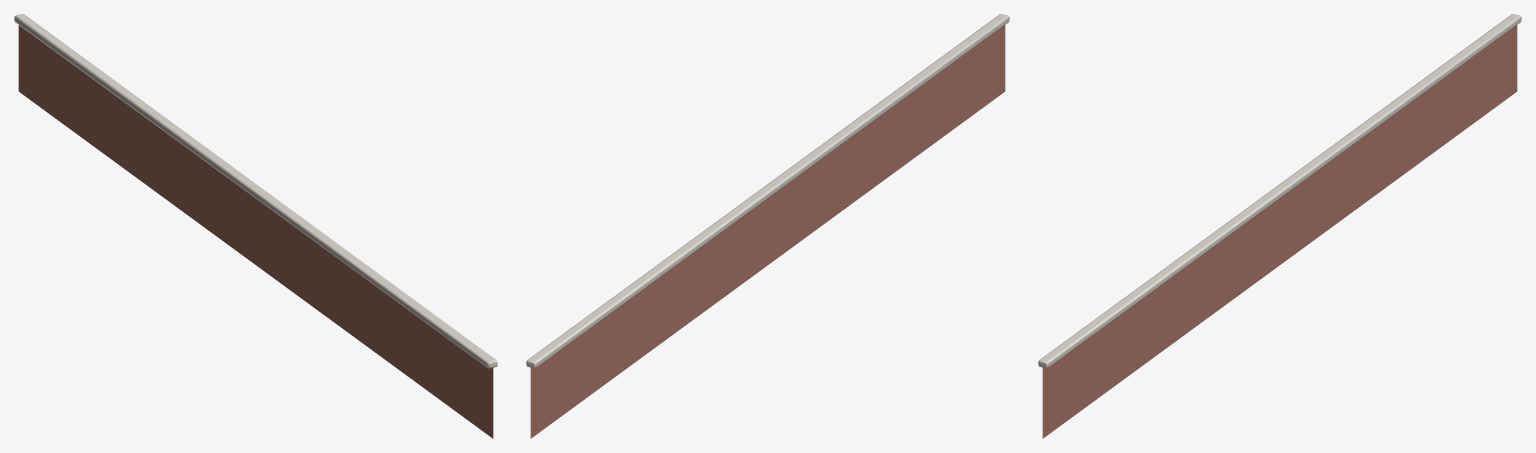
File: side_cap_10.glb
3 views of the same model, side by side, from view 1: azimuth 30°, elevation 25°; view 2: azimuth 150°, elevation 25°; view 3: azimuth 330°, elevation 25° (orthographic).
Visible parts, largest first — view 1: side_cap_10; view 2: side_cap_10; view 3: side_cap_10.
Boxes of the visible parts, <box> form: side_cap_10: <box>14,14,497,438</box>; side_cap_10: <box>526,14,1009,438</box>; side_cap_10: <box>1038,14,1521,438</box>.
Size of the model in its own units: 0.12 by 0.9 by 10.
